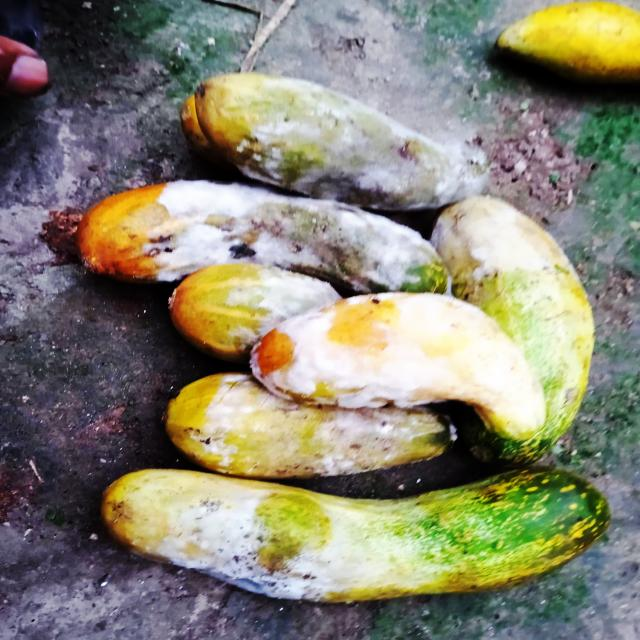Pythium-Fruit-Rot: (153, 175, 435, 292), (246, 76, 460, 211), (256, 288, 482, 408), (205, 368, 405, 479), (168, 484, 335, 603), (433, 194, 548, 280), (230, 264, 340, 339)
